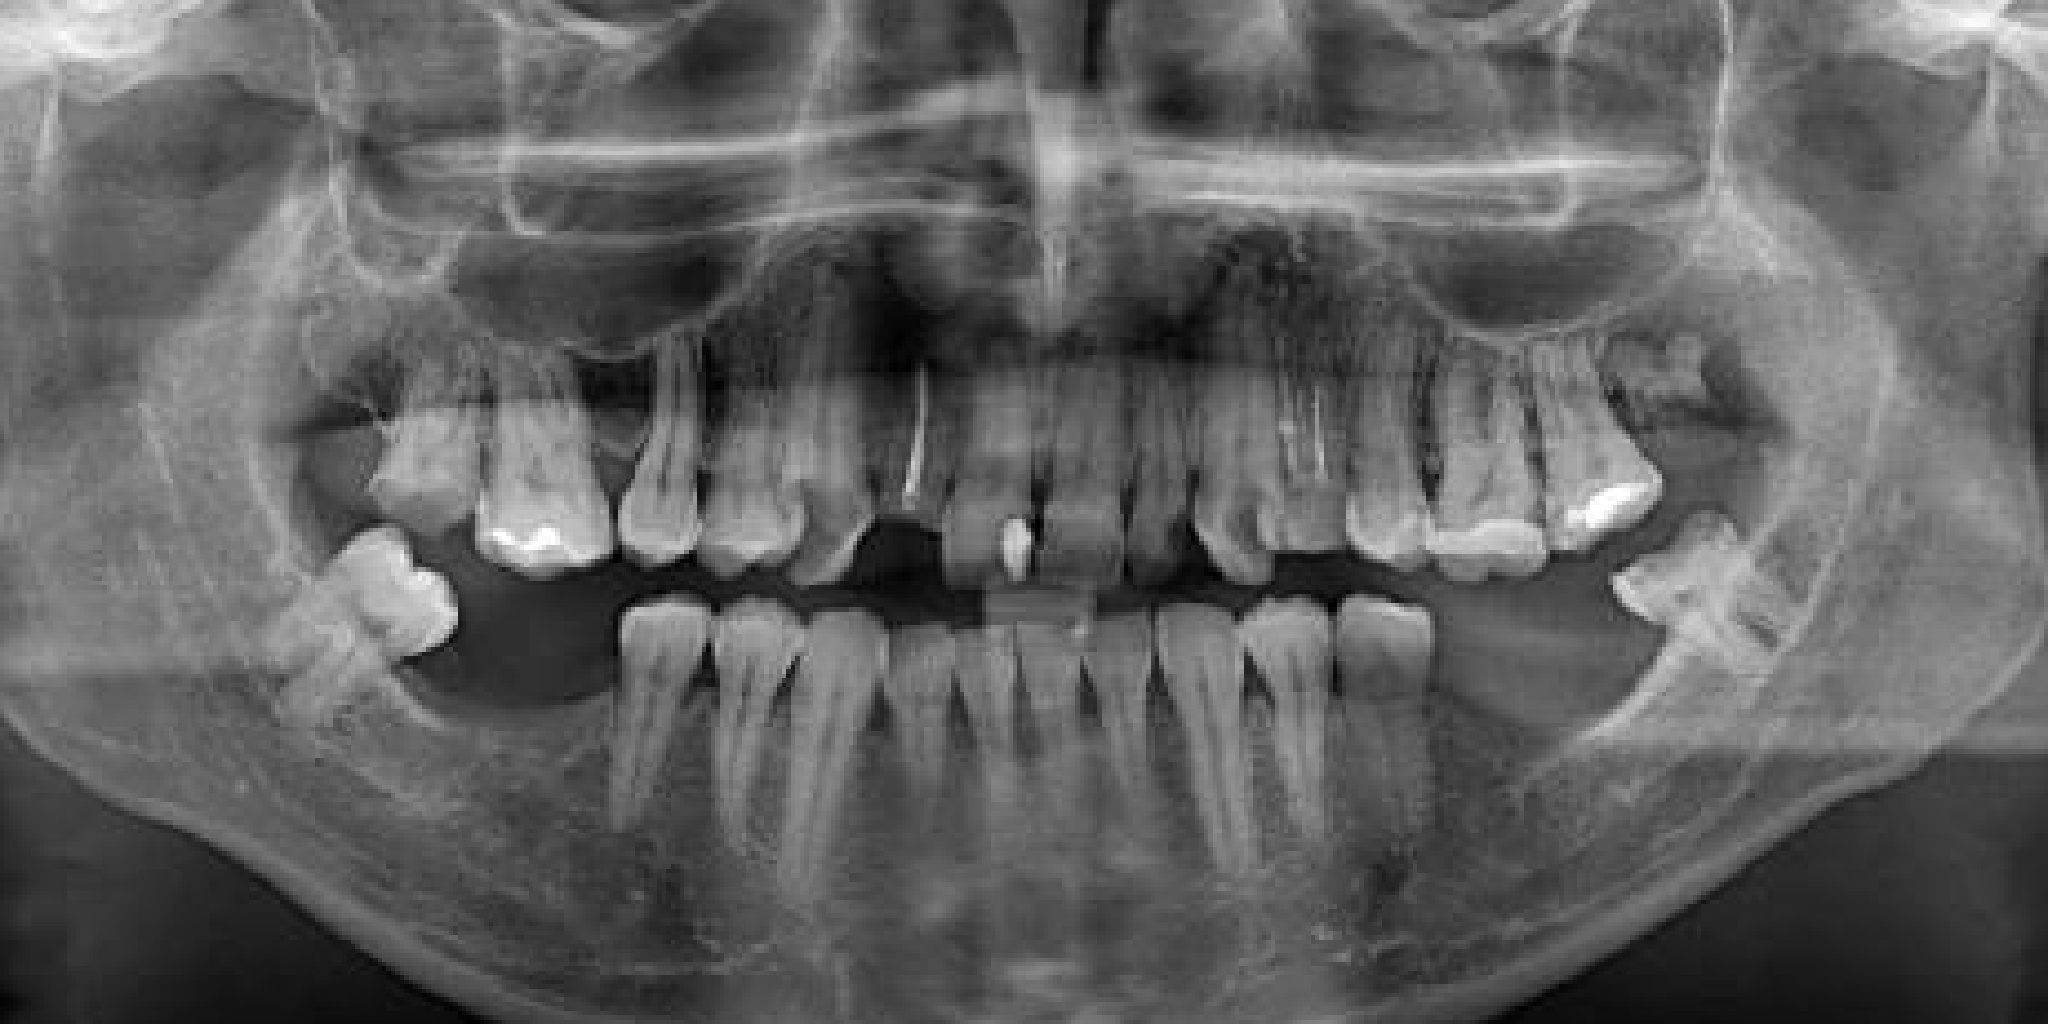Tooth: (223, 486, 488, 777), (708, 585, 906, 931), (1586, 473, 1830, 730), (1377, 308, 1575, 600), (1173, 247, 1324, 594), (1488, 308, 1684, 569), (683, 263, 839, 590), (558, 573, 730, 859), (761, 240, 899, 594), (1021, 312, 1166, 601), (1236, 287, 1384, 562), (1324, 299, 1469, 579), (1588, 295, 1761, 502), (605, 312, 733, 579), (933, 330, 1058, 596), (697, 586, 814, 857), (1064, 593, 1191, 823), (1105, 344, 1199, 590), (872, 610, 976, 835), (1010, 603, 1109, 836), (939, 602, 1036, 818), (869, 329, 959, 536)
